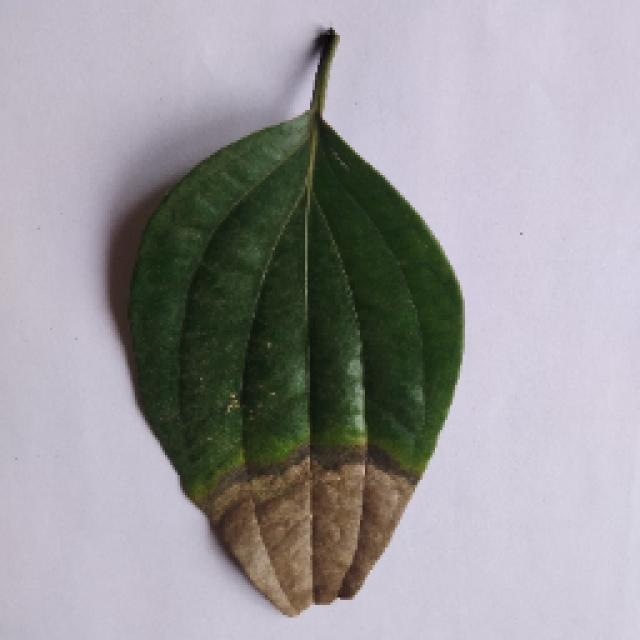footrot: (122, 38, 462, 618)
